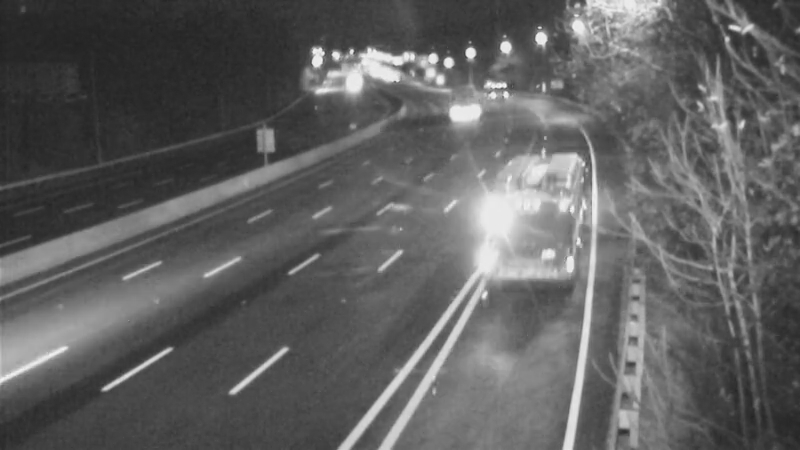vehicle: (479, 155, 559, 235), (465, 66, 515, 116), (436, 76, 486, 126), (326, 57, 376, 107)
